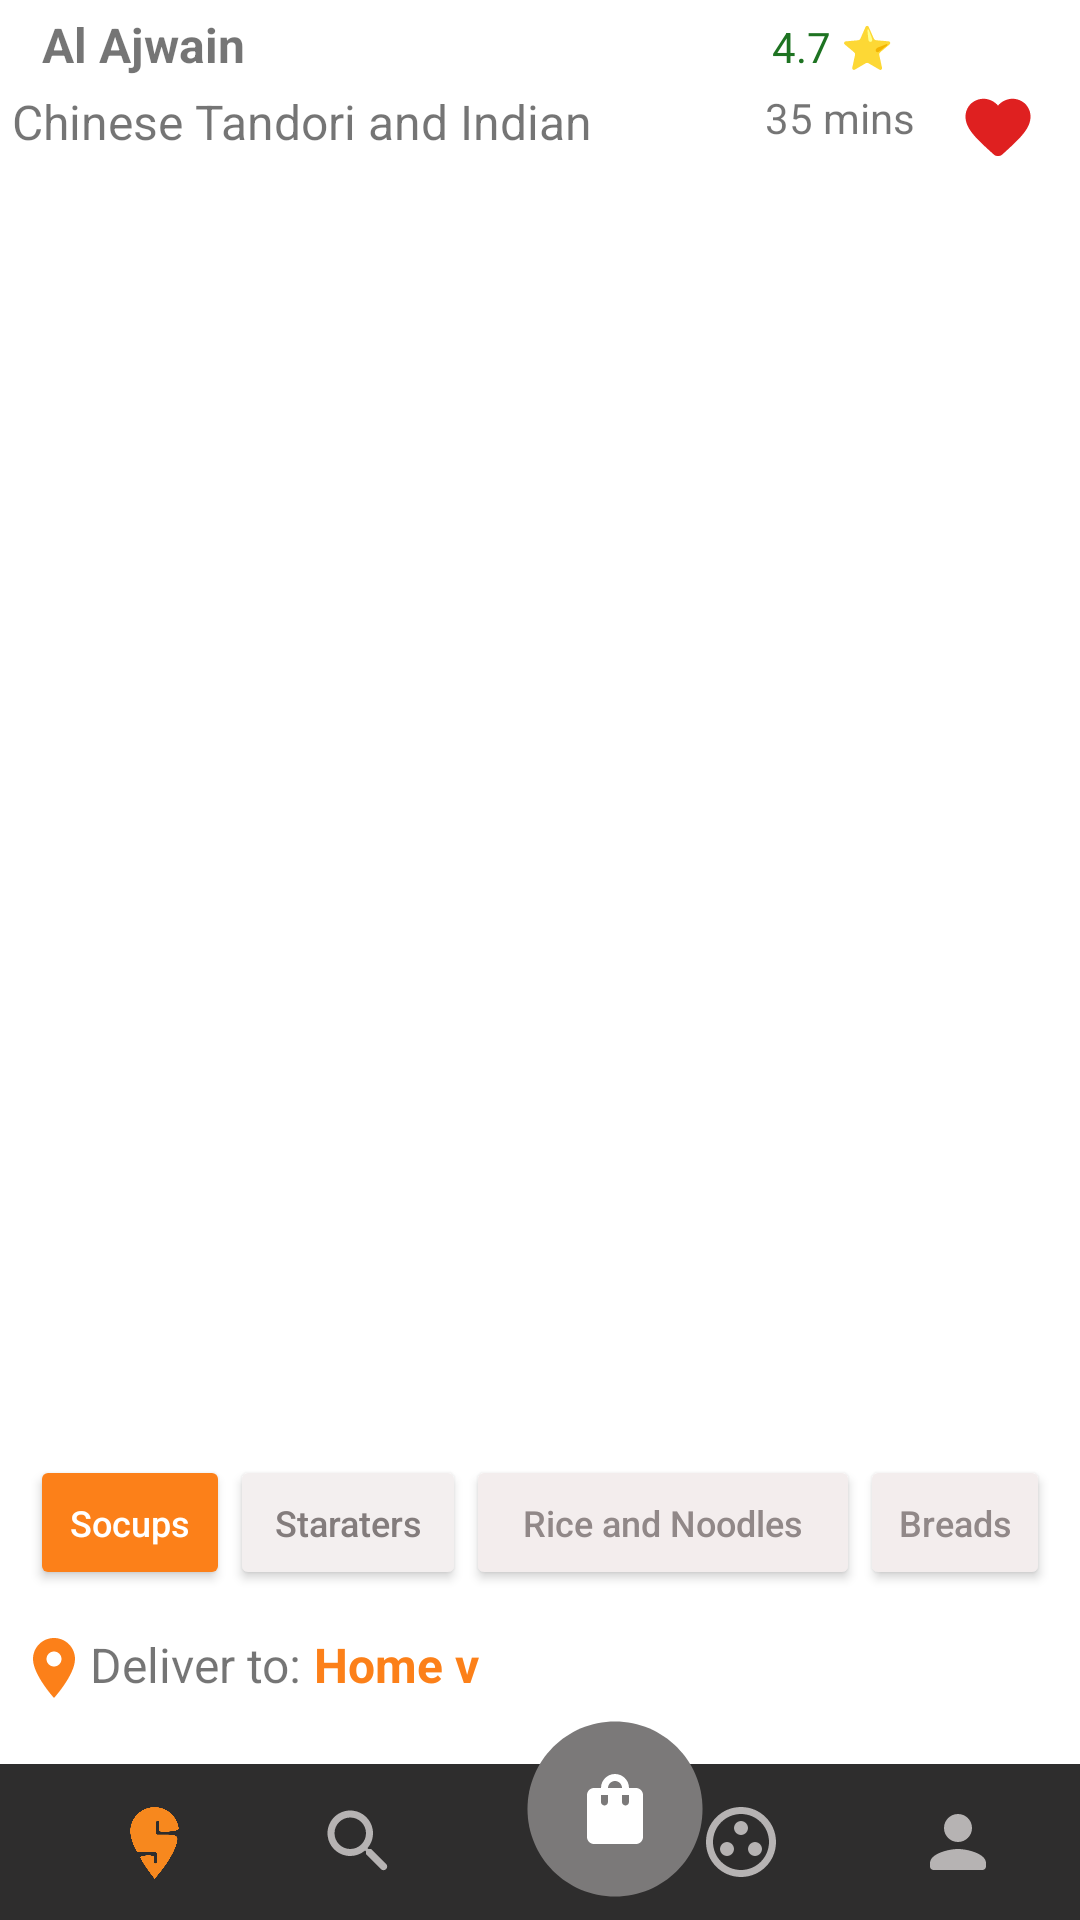

Icons on this 1080×1920 Android screen, each with its box as (x1, y1, x2, y2):
favorite: (965, 98, 1031, 156)
group work: (655, 1800, 776, 1884)
location on: (33, 1638, 75, 1698)
person: (930, 1814, 986, 1870)
search: (327, 1810, 387, 1871)
shopping bag: (587, 1774, 643, 1844)
